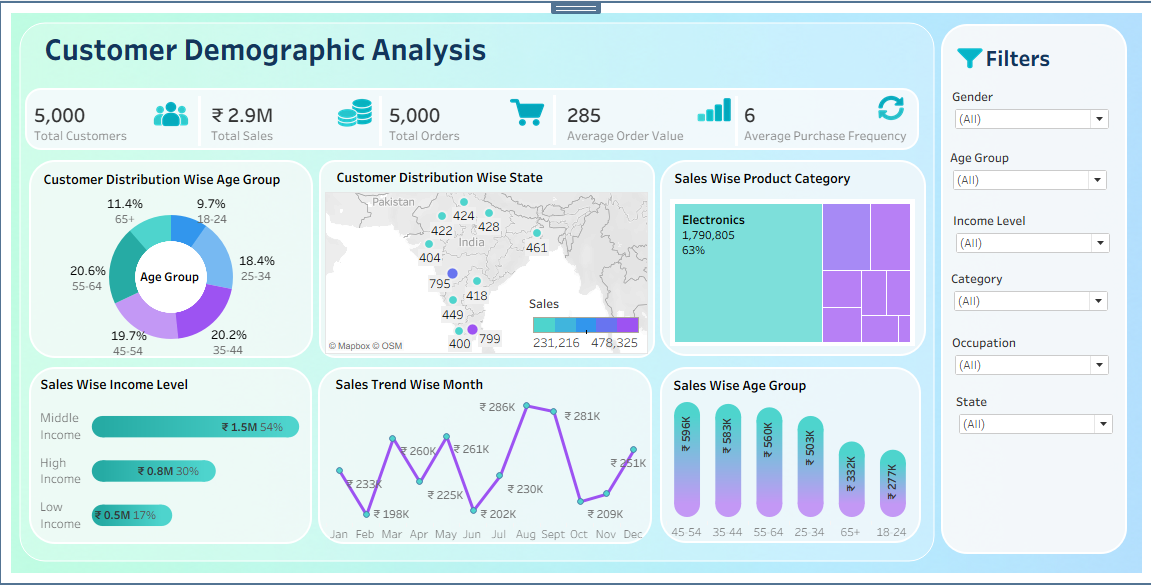

Layout of this report page (visuals, bound fields, positions):
{"tool":"tableau","page":{"name":"overview","canvas":[1155,584],"ordinal":0},"visuals":[{"type":"worksheet","title":"ov-back","mark":"Automatic","box":[12,11,1129,559]},{"type":"image","param":"Image/ChatGPT Image Sep 6, 2026, 12_15_37 AM.png","box":[16,16,1123,552]},{"type":"text","box":[43,28,570,38]},{"type":"text","box":[984,38,80,38]},{"type":"image","param":"Image/ChatGPT Image Sep 6, 2026, 10_59_35 PM.png","box":[954,40,33,33]},{"type":"image","param":"Image/ChatGPT Image Sep 6, 2026, 09_37_10 PM.png","box":[871,85,40,40]},{"type":"image","param":"Image/ChatGPT Image Sep 6, 2026, 09_36_08 PM.png","box":[693,86,43,42]},{"type":"filter","title":"Pie","param":"[federated.12eraa502mebec151dxnt178m906].[none:Gender:nk]","box":[953,87,160,56]},{"type":"image","param":"Image/ChatGPT Image Sep 6, 2026, 09_33_38 PM.png","box":[506,88,43,42]},{"type":"image","param":"Image/ChatGPT Image Sep 6, 2026, 09_29_47 PM.png","box":[333,89,44,41]},{"type":"image","param":"Image/ChatGPT Image Sep 6, 2026, 09_28_12 PM.png","box":[149,90,45,42]},{"type":"worksheet","title":"KPI","mark":"Automatic","box":[31,92,888,61]},{"type":"text","box":[554,94,3,50]},{"type":"text","box":[199,95,3,50]},{"type":"text","box":[380,95,3,50]},{"type":"text","box":[736,95,3,50]},{"type":"filter","title":"tree","param":"[federated.12eraa502mebec151dxnt178m906].[none:AgeGroup:nk]","box":[951,148,160,47]},{"type":"text","box":[335,160,261,31]},{"type":"text","box":[673,161,261,31]},{"type":"text","box":[42,162,261,31]},{"type":"worksheet","title":"map","mark":"Automatic","box":[326,191,323,162]},{"type":"worksheet","title":"Pie","mark":"Pie","cols":["Calculation_0949469778300936","Calculation_0949469778313226"],"box":[39,192,266,168]},{"type":"worksheet","title":"tree","mark":"Automatic","box":[671,198,245,147]},{"type":"filter","title":"bar","param":"[federated.12eraa502mebec151dxnt178m906].[none:IncomeBracket:nk]","box":[954,211,160,46]},{"type":"filter","title":"bar","param":"[federated.12eraa502mebec151dxnt178m906].[none:Category:nk]","box":[952,269,160,58]},{"type":"legend","title":"map","param":"[federated.12eraa502mebec151dxnt178m906].[sum:Amount:qk]","box":[530,294,114,54]},{"type":"filter","title":"line","param":"[federated.12eraa502mebec151dxnt178m906].[none:Occupation:nk]","box":[953,333,160,49]},{"type":"text","box":[39,367,261,31]},{"type":"text","box":[334,367,261,31]},{"type":"text","box":[672,368,261,31]},{"type":"filter","title":"line","param":"[federated.12eraa502mebec151dxnt178m906].[none:State:nk]","box":[957,392,160,48]},{"type":"worksheet","title":"line","mark":"Automatic","rows":["Amount","Amount"],"cols":["PurchaseDate"],"box":[327,396,321,146]},{"type":"worksheet","title":"bar","mark":"Line","rows":["Amount"],"cols":["AgeGroup"],"box":[667,396,247,144]},{"type":"worksheet","title":"col","mark":"Automatic","rows":["IncomeBracket"],"cols":["Amount"],"box":[35,403,274,133]}]}

Visuals, with their boxes in screenshot pixels (x1, y1, x2, y2), scaled from the page's 1155x584 canvas onto the 1151x585 screenshot:
"ov-back" worksheet: crop(12, 11, 1137, 571)
image: crop(16, 16, 1135, 569)
text: crop(43, 28, 611, 66)
text: crop(981, 38, 1060, 76)
image: crop(951, 40, 984, 73)
image: crop(868, 85, 908, 125)
image: crop(691, 86, 733, 128)
"Pie" filter: crop(950, 87, 1109, 143)
image: crop(504, 88, 547, 130)
image: crop(332, 89, 376, 130)
image: crop(148, 90, 193, 132)
"KPI" worksheet: crop(31, 92, 916, 153)
text: crop(552, 94, 555, 144)
text: crop(198, 95, 201, 145)
text: crop(379, 95, 382, 145)
text: crop(733, 95, 736, 145)
"tree" filter: crop(948, 148, 1107, 195)
text: crop(334, 160, 594, 191)
text: crop(671, 161, 931, 192)
text: crop(42, 162, 302, 193)
"map" worksheet: crop(325, 191, 647, 354)
"Pie" worksheet (Pie marks): crop(39, 192, 304, 361)
"tree" worksheet: crop(669, 198, 913, 346)
"bar" filter: crop(951, 211, 1110, 257)
"bar" filter: crop(949, 269, 1108, 328)
"map" legend: crop(528, 295, 642, 349)
"line" filter: crop(950, 334, 1109, 383)
text: crop(39, 368, 299, 399)
text: crop(333, 368, 593, 399)
text: crop(670, 369, 930, 400)
"line" filter: crop(954, 393, 1113, 441)
"line" worksheet: crop(326, 397, 646, 543)
"bar" worksheet (Line marks): crop(665, 397, 911, 541)
"col" worksheet: crop(35, 404, 308, 537)
